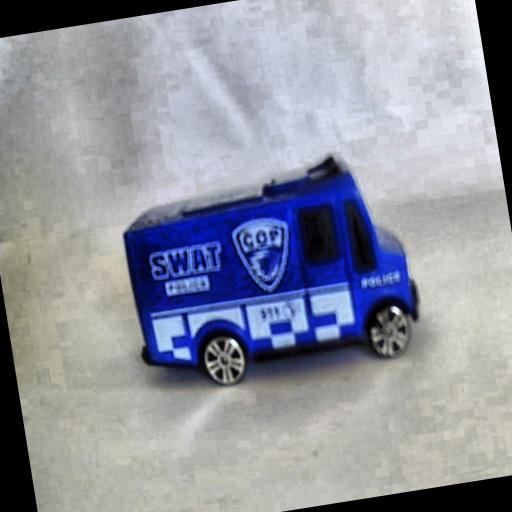police car: (114, 164, 436, 406)
